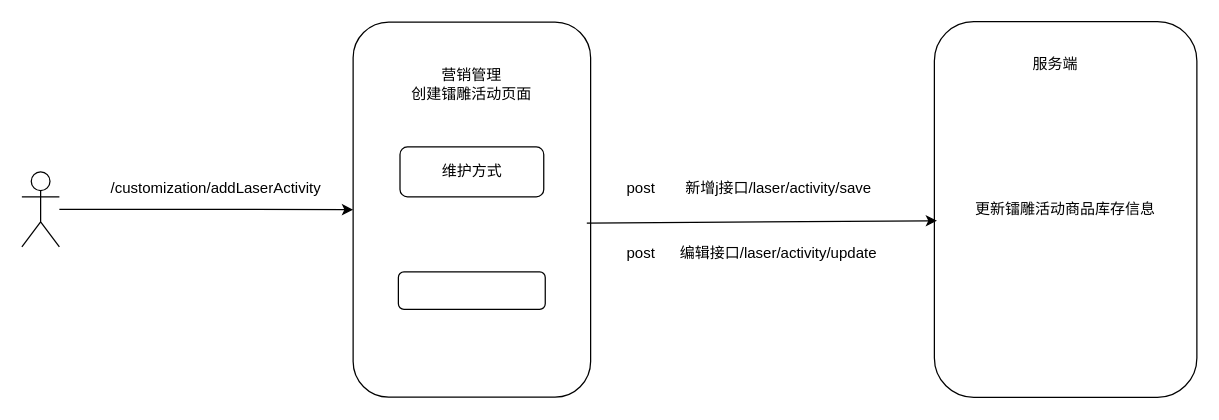
The diagram is 1219 pixels wide and 420 high, and some of its shapes have lost their labels. The shapes that lost their labels are listed below. From the top down, each one's centre as x and y in pixels, then its label:
At point (40, 209): "Actor".
At point (471, 290): "库存数量".
